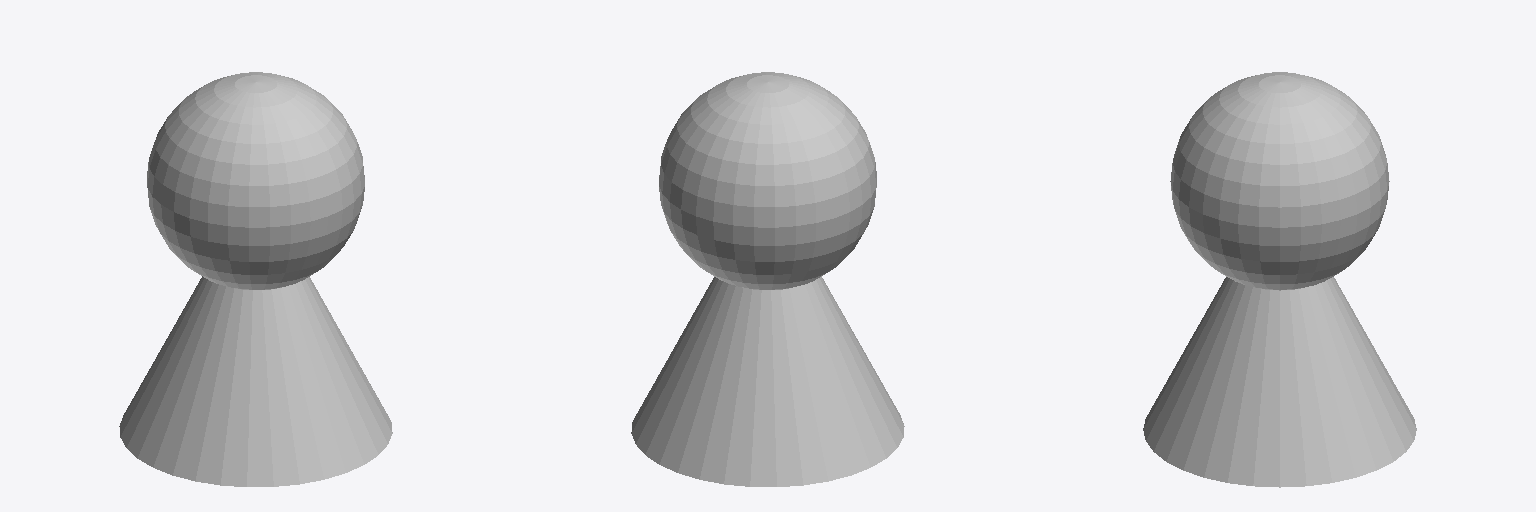
Rendered from Player.obj.
The picture shows the model from 3 angles: view 1: azimuth 30°, elevation 25°; view 2: azimuth 150°, elevation 25°; view 3: azimuth 270°, elevation 25°; orthographic projection.
Parts seen in each view (by area): view 1: Sphere; view 2: Sphere; view 3: Sphere.
Part boxes in pixels (x1,y1,x2,y2): Sphere: (119, 72, 392, 486); Sphere: (631, 72, 904, 486); Sphere: (1143, 72, 1416, 487).
Size of the model in its own units: 2 by 2.8 by 2.